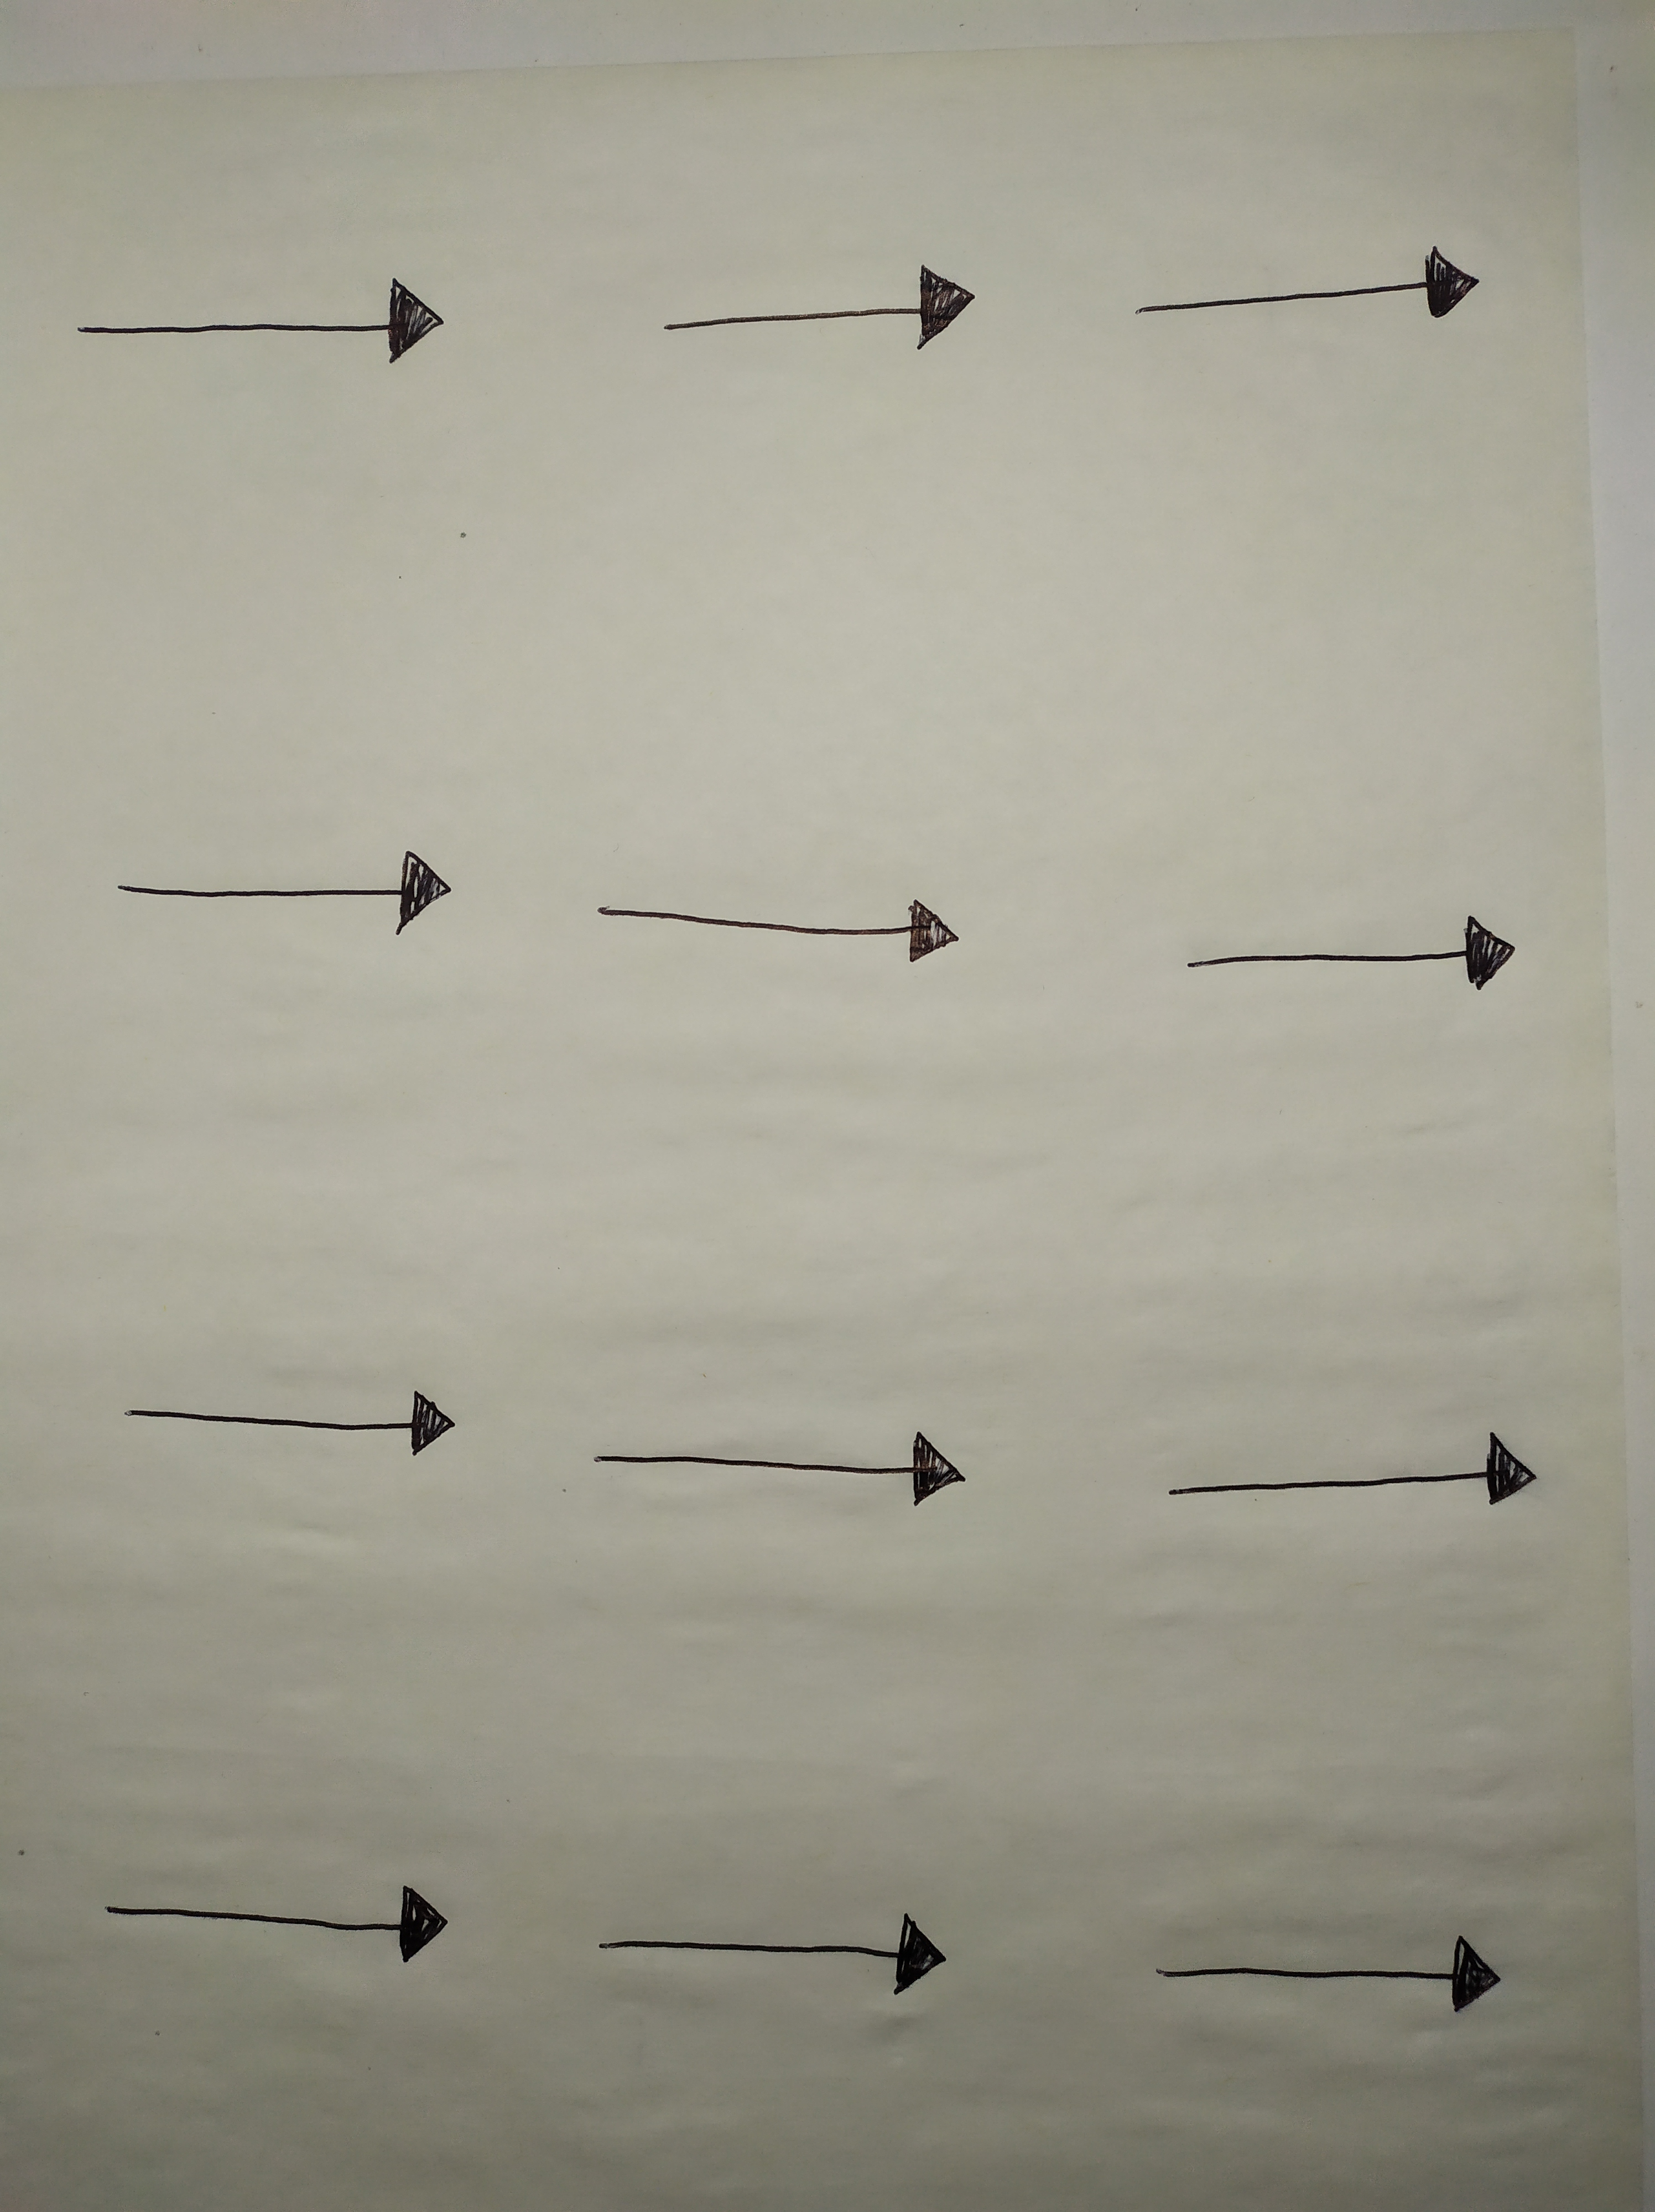arrow_line_right: (556, 850, 979, 997), (80, 1847, 464, 2009), (45, 243, 478, 384), (568, 1392, 986, 1534), (1123, 1903, 1540, 2038), (1099, 224, 1518, 356), (89, 1343, 490, 1477), (1142, 1416, 1565, 1534), (568, 1885, 967, 2010), (1158, 893, 1551, 1010), (96, 829, 471, 947), (621, 243, 986, 361)
